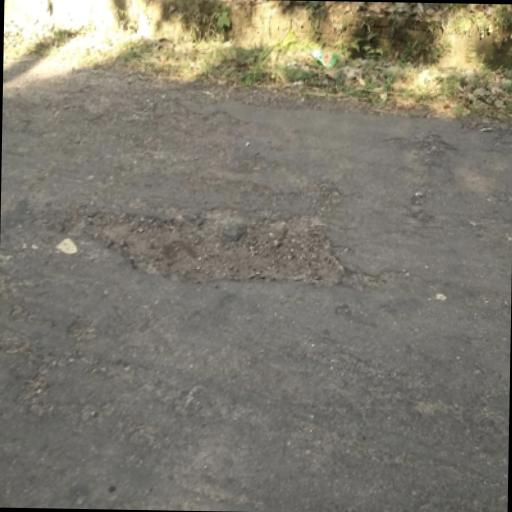pothole: (58, 202, 354, 294), (388, 133, 456, 153)
